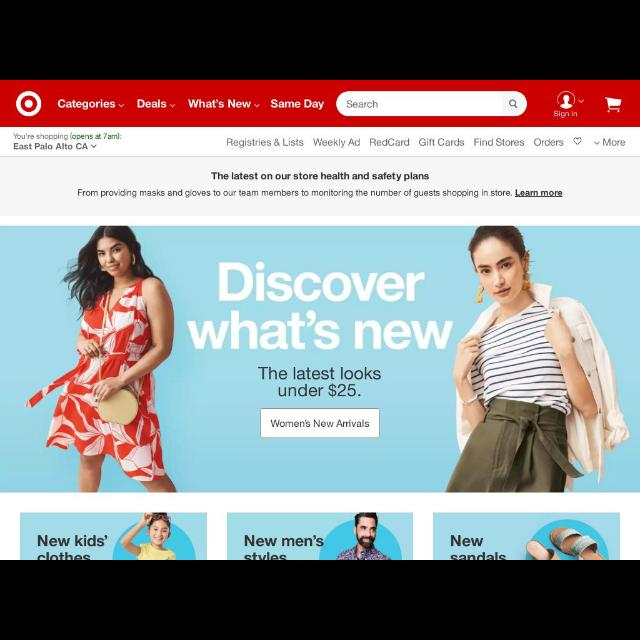backgroundimage: (2, 224, 640, 492)
button: (601, 90, 629, 120), (501, 92, 529, 116)
icon: (604, 96, 622, 114), (558, 91, 576, 109), (508, 99, 518, 109), (574, 138, 582, 144), (593, 140, 601, 146), (254, 102, 260, 108), (578, 98, 584, 104), (91, 144, 97, 148), (118, 104, 124, 108), (170, 104, 176, 108)
image: (225, 512, 412, 560), (20, 512, 206, 560), (432, 512, 618, 560), (12, 90, 46, 122)
input: (336, 91, 500, 117)
multitab: (1, 128, 639, 156), (54, 96, 326, 112)
spinner: (56, 96, 126, 112), (184, 98, 262, 110), (12, 142, 100, 152), (133, 96, 179, 110), (592, 137, 628, 149)
text: (186, 258, 454, 352), (76, 188, 564, 198), (255, 364, 382, 400), (212, 171, 430, 181), (268, 418, 370, 430), (13, 132, 121, 140), (187, 98, 251, 110), (226, 138, 304, 146), (272, 99, 324, 111), (13, 142, 89, 150), (58, 100, 115, 110), (314, 138, 362, 148), (419, 138, 465, 148), (370, 138, 410, 148), (474, 138, 524, 146), (137, 98, 167, 110), (347, 100, 379, 108), (534, 138, 564, 146), (603, 138, 627, 148), (554, 110, 578, 118)
textbutton: (258, 409, 382, 438), (550, 90, 586, 120)
